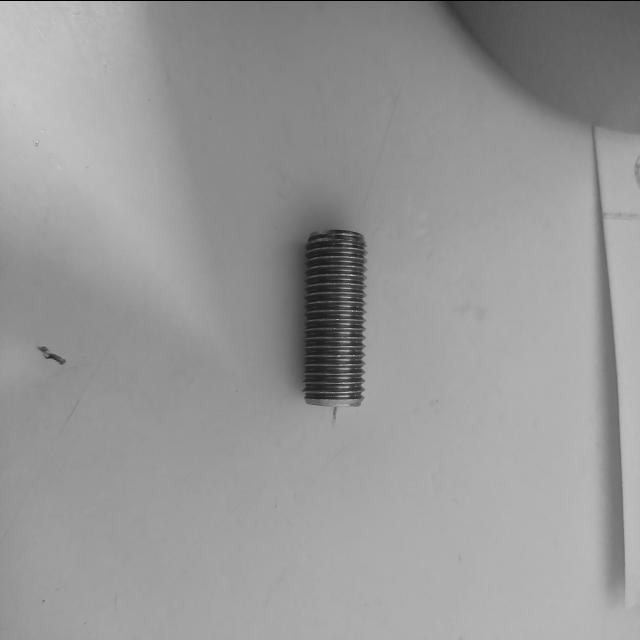Normal: (297, 228, 368, 408)
